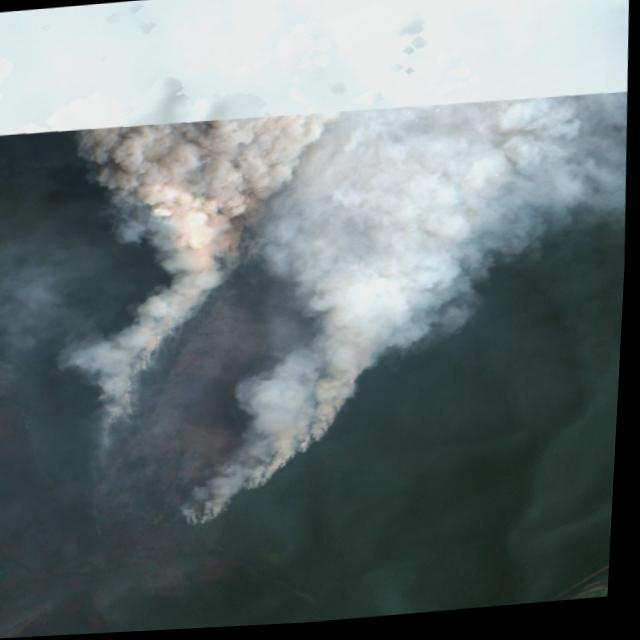fire: (73, 57, 523, 539)
